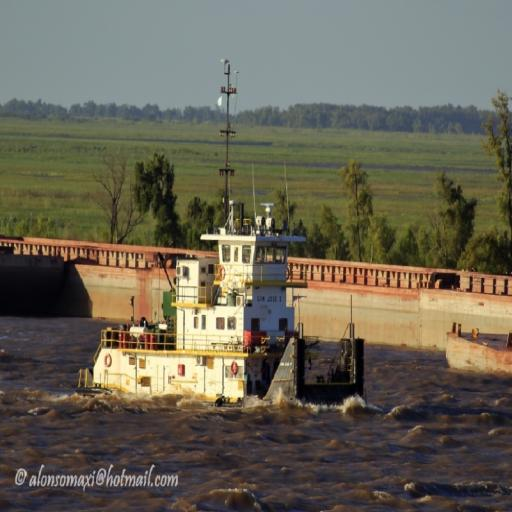tugboat: (75, 58, 370, 423)
